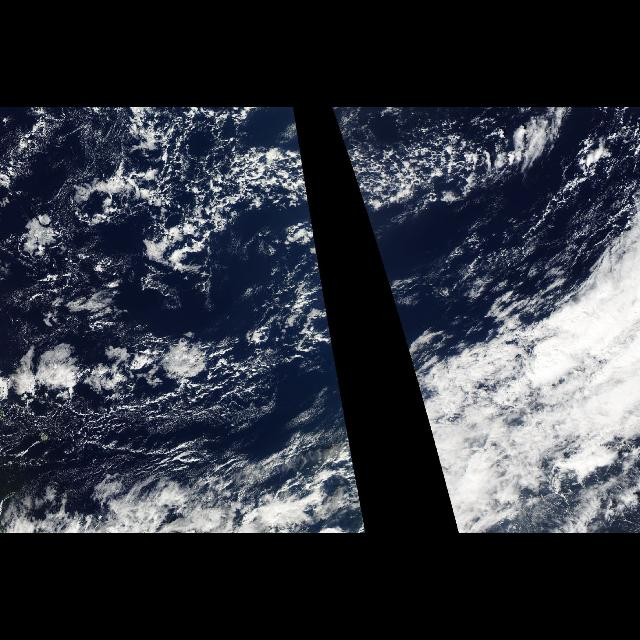Fish: (0, 109, 324, 288), (329, 109, 616, 288)
Flower: (0, 304, 292, 434)
